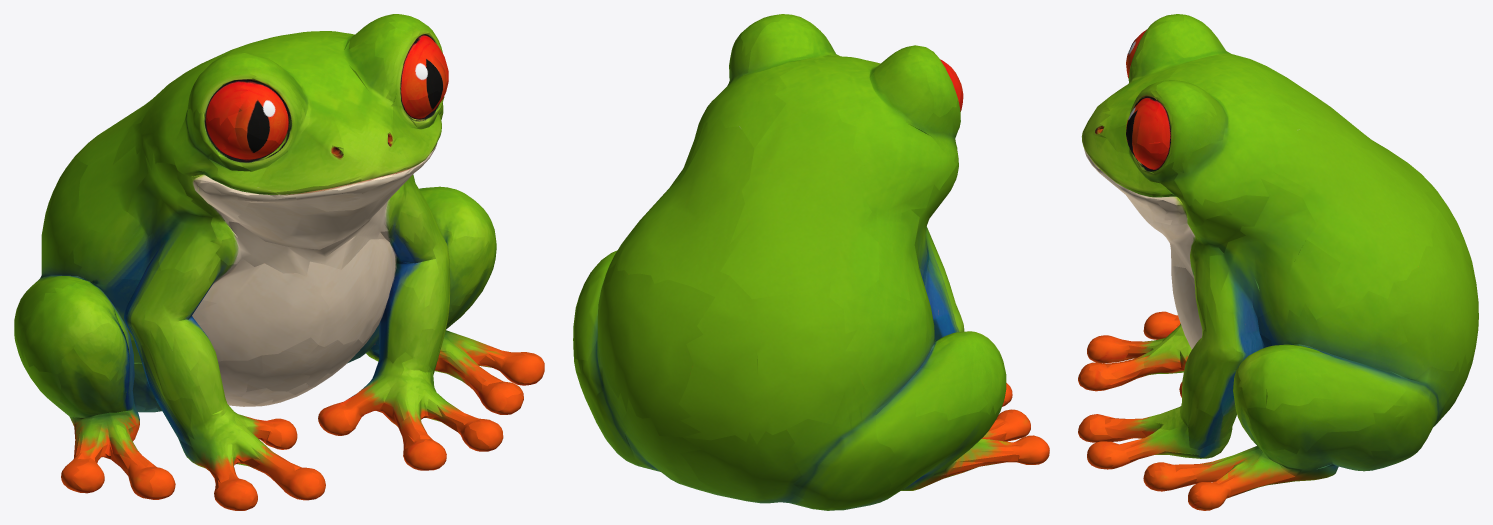
Rendered from frog.glb.
The picture shows the model from 3 angles, left to right: view 1: azimuth 30°, elevation 25°; view 2: azimuth 150°, elevation 25°; view 3: azimuth 270°, elevation 25°; orthographic projection. The views are drawn at different scales.
Size of the model in its own units: 0.0981 by 0.08 by 0.0806.
1 material, 1 textured.
